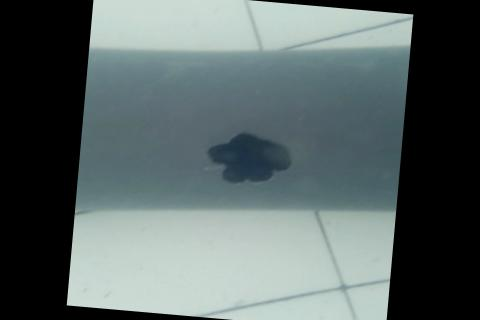kebocoran: (203, 127, 298, 191)
